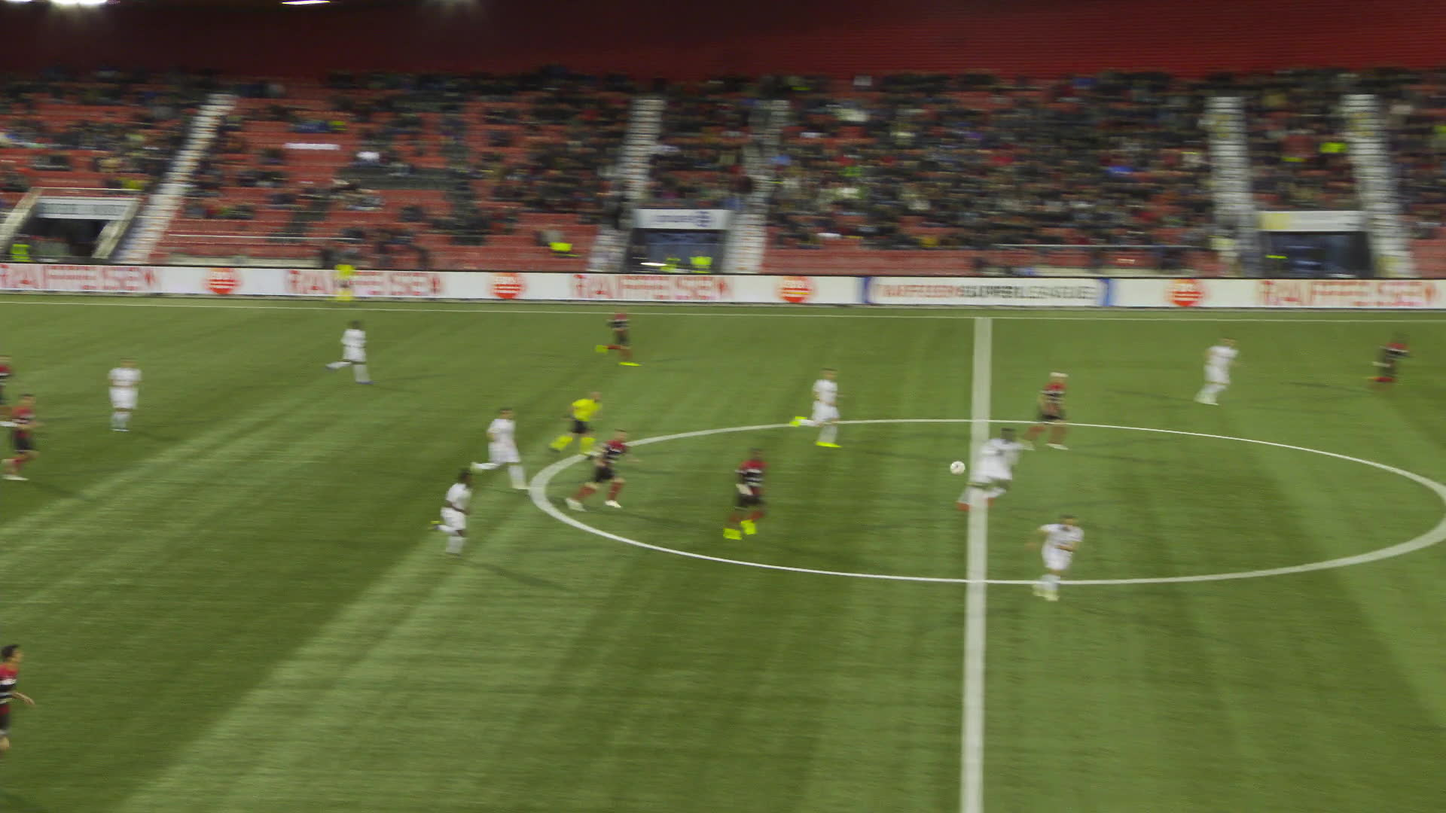ball: (950, 461, 965, 473)
player: (562, 427, 640, 511), (981, 428, 1044, 516), (1050, 511, 1105, 605), (437, 467, 491, 560), (489, 406, 548, 489), (789, 366, 847, 448), (746, 447, 794, 545), (0, 642, 38, 753), (0, 393, 46, 481), (1200, 335, 1251, 407), (1045, 374, 1091, 452), (130, 355, 167, 430), (348, 319, 389, 385), (596, 303, 637, 367), (1365, 333, 1414, 385), (0, 354, 26, 426)
referee: (547, 385, 605, 455), (330, 256, 354, 304)
